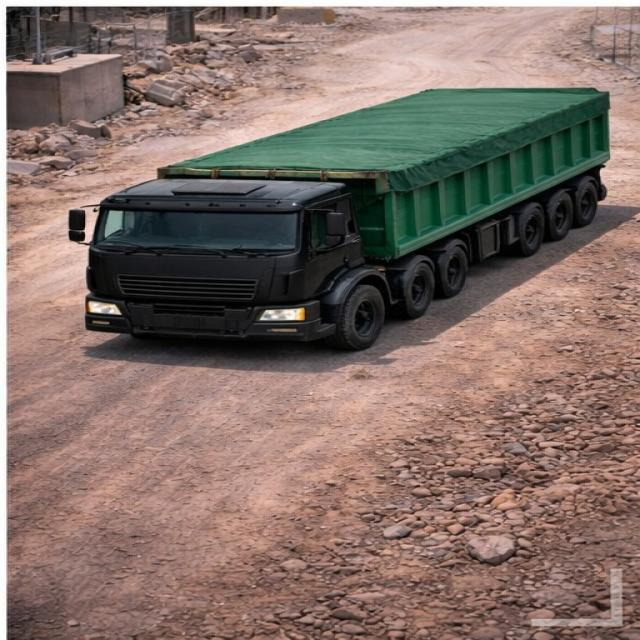Box: (161, 86, 620, 175)
Truck: (63, 62, 622, 338)
